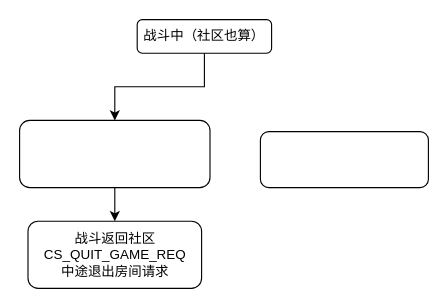
Image size: 448x308. Some labels were removed from this diagram. Each missing label, with the box of its shape:
CS_GM_KICKOUT_NOTIFY GM要求客户端退出: (18, 119, 210, 188)
CSDismissRoomNotify: (259, 130, 428, 188)
